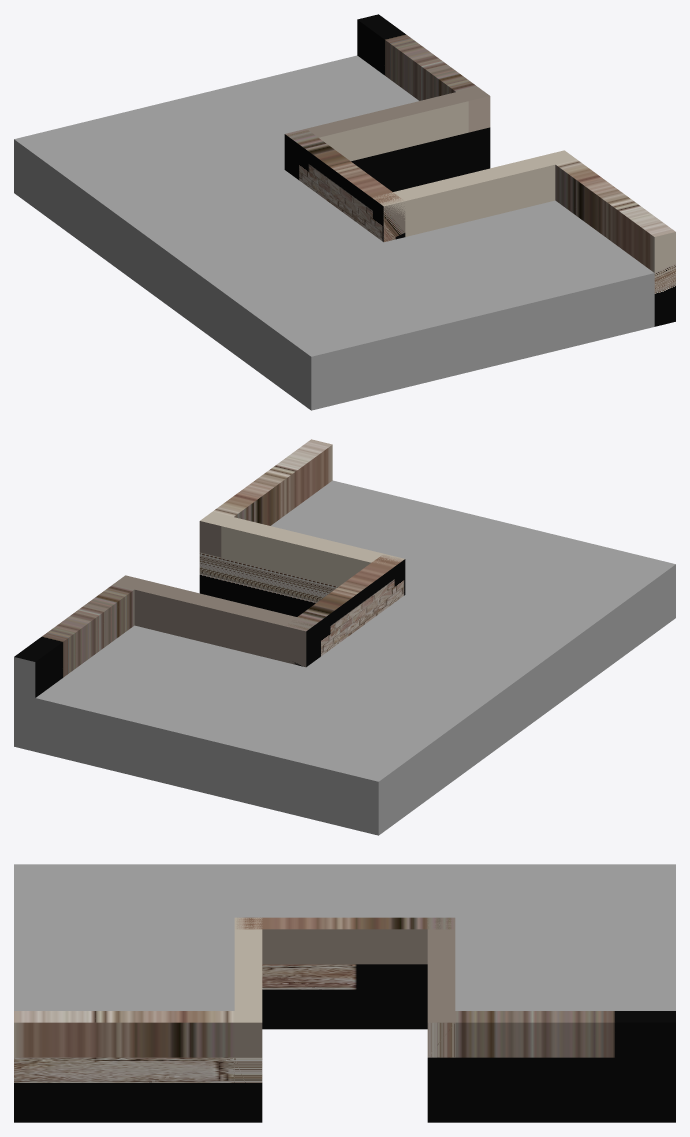
Rendered from 4x4 dirt w wall concave.fbx.
3 renders of one model, top to bottom at view 1: azimuth 30°, elevation 25°; view 2: azimuth 150°, elevation 25°; view 3: azimuth 270°, elevation 25°, orthographic. The views are drawn at different scales.
Visible parts, largest first — view 1: planter_box; view 2: planter_box; view 3: planter_box.
Boxes of the visible parts, x1=… form: planter_box: x1=14, y1=14, x2=675, y2=410; planter_box: x1=14, y1=439, x2=675, y2=835; planter_box: x1=14, y1=864, x2=675, y2=1122.
Bounding box in the file's own units: 425 × 100 × 600.
